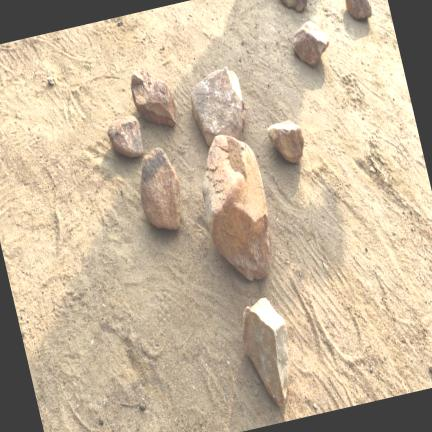Rocks: (202, 136, 270, 280), (242, 299, 288, 406), (190, 67, 244, 147), (140, 149, 180, 229), (130, 69, 175, 126), (292, 22, 328, 67), (267, 121, 303, 163), (107, 116, 142, 157), (345, 0, 371, 20), (280, 0, 306, 11), (47, 76, 53, 85), (139, 402, 145, 411), (98, 416, 103, 425)
